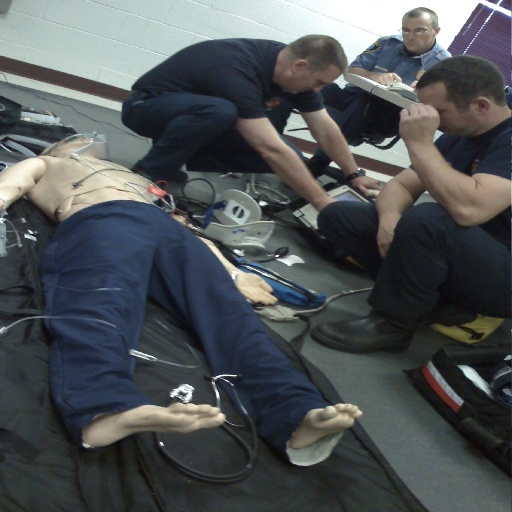hand: (398, 102, 440, 142), (236, 268, 279, 302), (375, 215, 402, 260), (347, 174, 384, 199), (370, 72, 400, 84)
